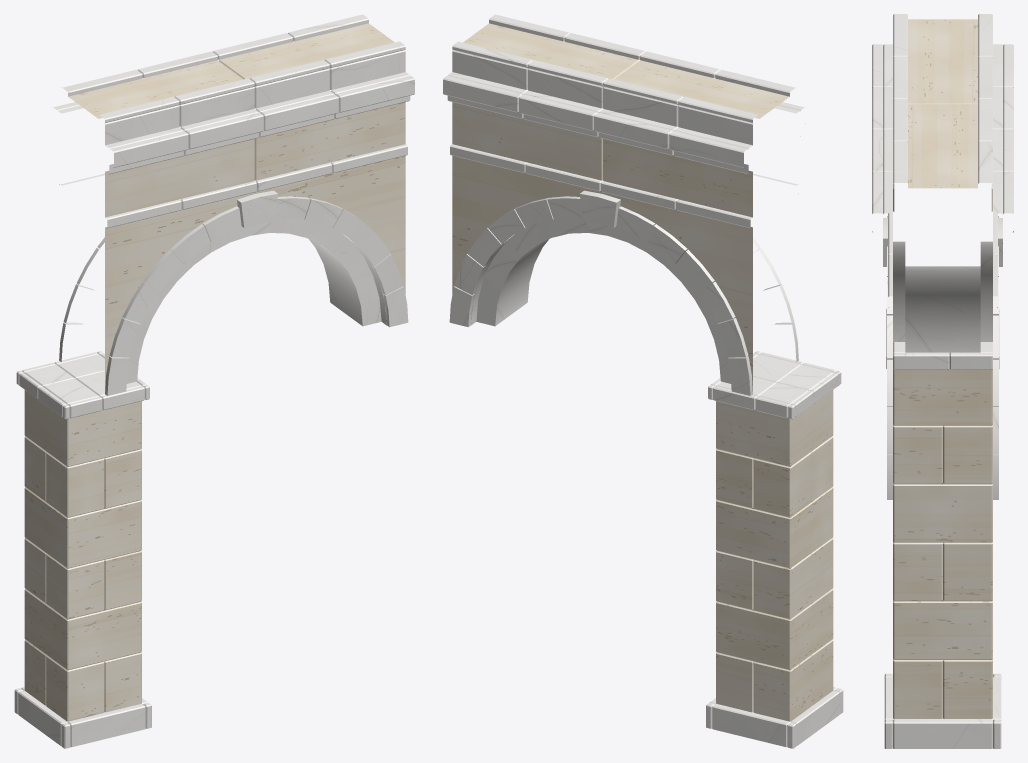
3 renders of one model, left to right at view 1: azimuth 30°, elevation 25°; view 2: azimuth 150°, elevation 25°; view 3: azimuth 270°, elevation 25°, orthographic. The views are drawn at different scales.
Visible parts, largest first — view 1: Mesh_arcade_bay; view 2: Mesh_arcade_bay; view 3: Mesh_arcade_bay.
Boxes of the visible parts, bbox=[...] form: Mesh_arcade_bay: bbox=[14, 14, 414, 748]; Mesh_arcade_bay: bbox=[443, 14, 843, 748]; Mesh_arcade_bay: bbox=[872, 14, 1013, 748].
Bounding box in the file's own units: 5.5 × 9.4 × 1.7.
1 material, 1 textured.
